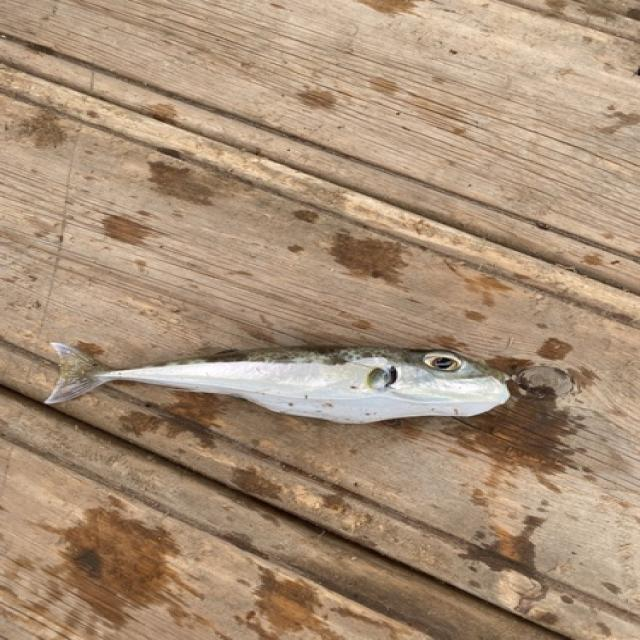Balik: (45, 344, 508, 423)
